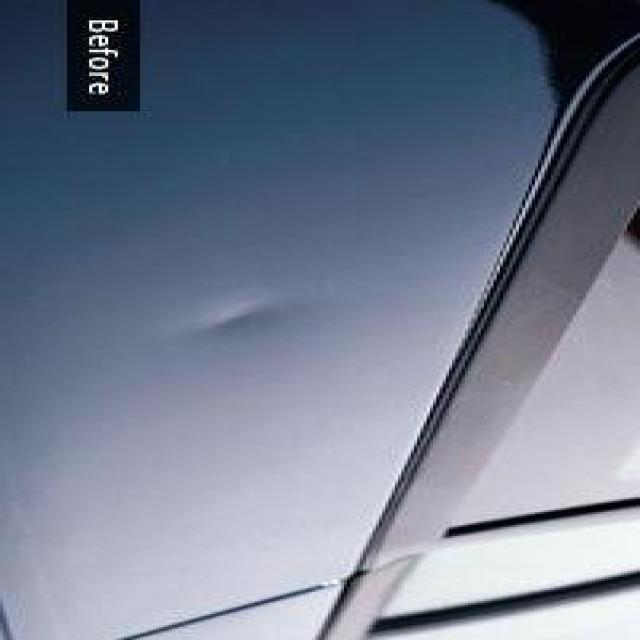dent: (105, 267, 395, 375)
